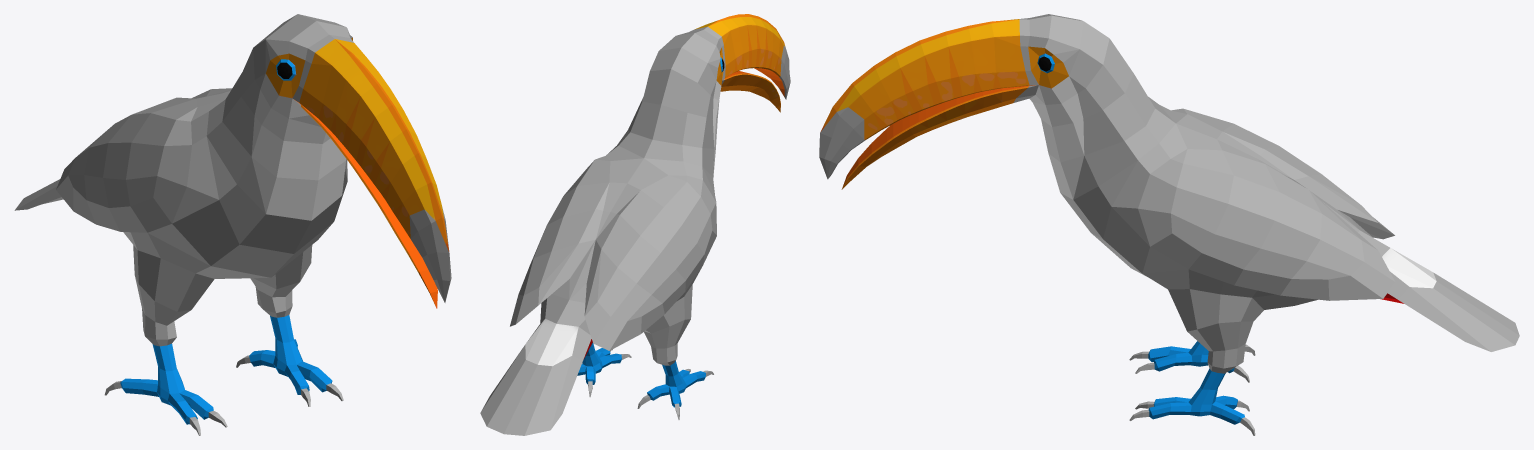
File: toucan.glb
3 views of the same model, side by side, from view 1: azimuth 30°, elevation 25°; view 2: azimuth 150°, elevation 25°; view 3: azimuth 270°, elevation 25° (orthographic). The views are drawn at different scales.
Visible parts, largest first — view 1: TocoToucan; view 2: TocoToucan; view 3: TocoToucan.
Boxes of the visible parts, <box> form: TocoToucan: <box>14,14,451,435</box>; TocoToucan: <box>480,14,790,435</box>; TocoToucan: <box>819,14,1519,435</box>.
Bounding box in the file's own units: 0.1815 × 0.3802 × 0.6334.
Materials: 1 (1 with a texture image).
